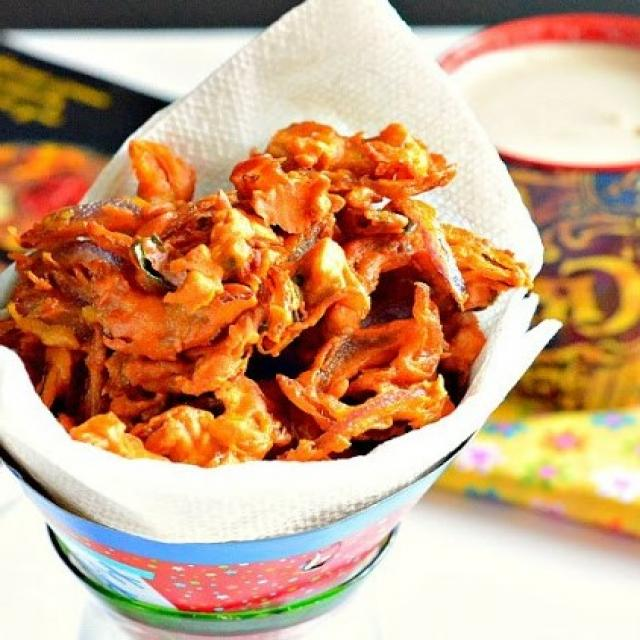Onion Pakora: (5, 117, 533, 468)
